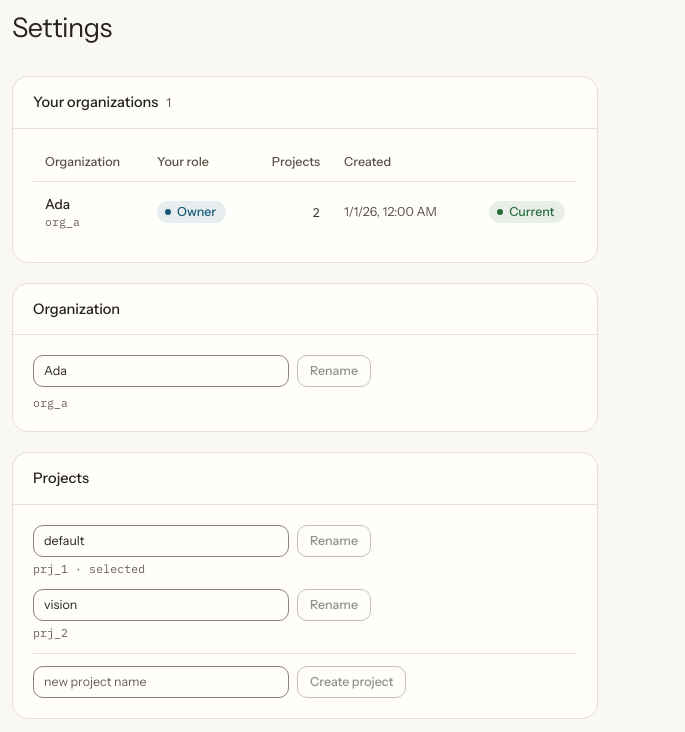
Test case: renaming › shows a project name that is taken as the API says it, and keeps what was typed
Replace the text in the field named "Name of project vision" with "default". click: (161, 605)
box: [33, 589, 289, 621]
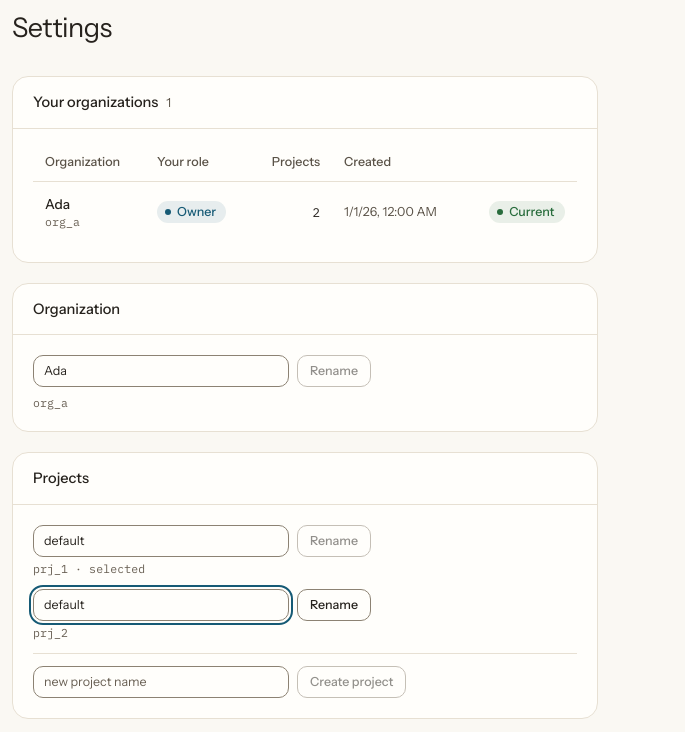
Click the 3rd button "Rename". click: (334, 605)
box: [297, 589, 371, 621]
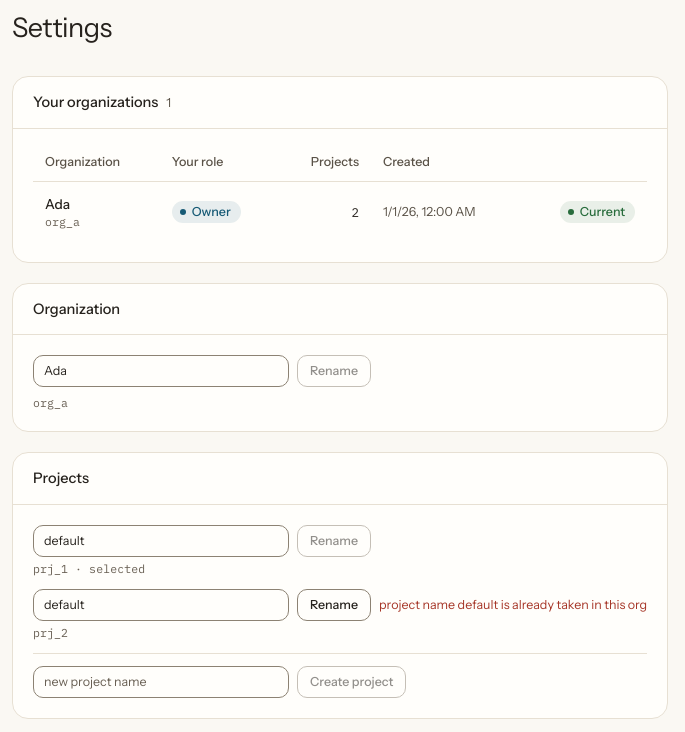
Expected: the text "project name default is already taken in this org" is shown, [379, 596, 647, 614]
